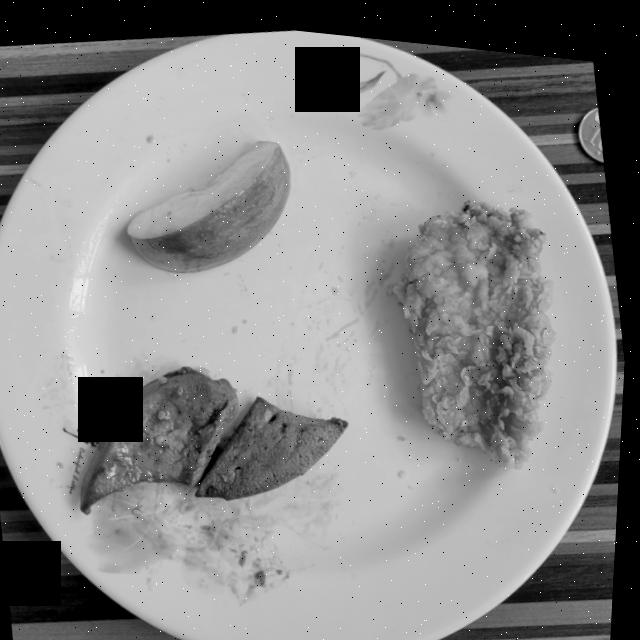apple -sliced-: (129, 135, 292, 268)
coin: (579, 95, 605, 149)
fried chicken cutlet: (390, 191, 559, 458)
pig liver: (86, 362, 243, 511), (201, 391, 352, 494)
